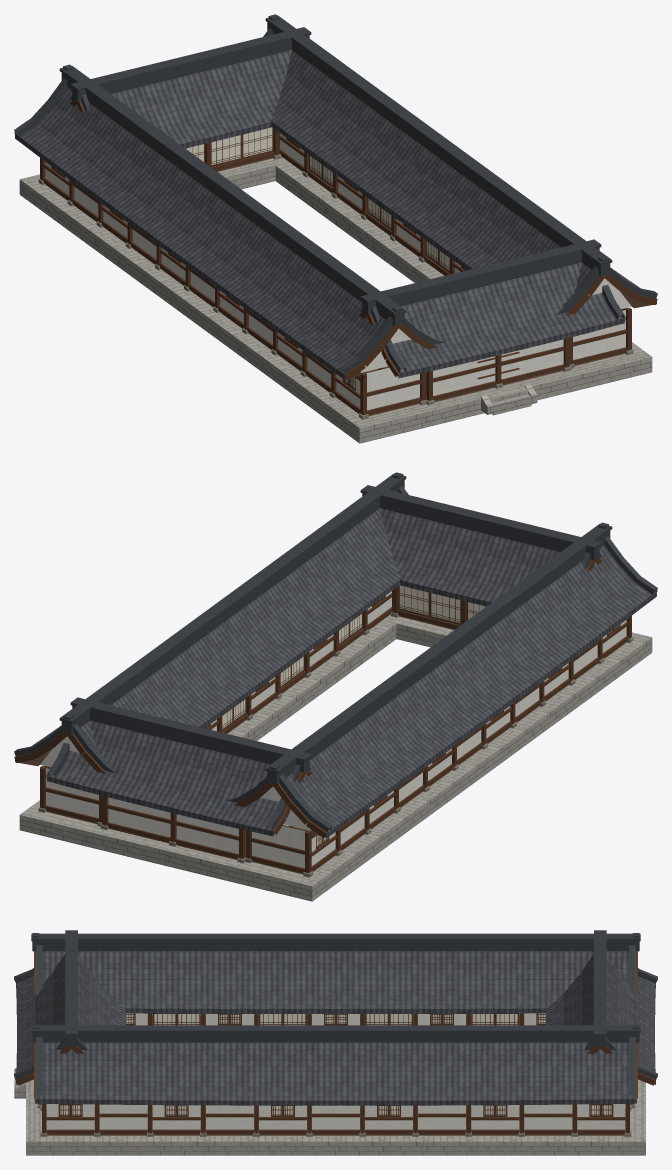
The picture shows the model from 3 angles, top to bottom: view 1: azimuth 30°, elevation 25°; view 2: azimuth 150°, elevation 25°; view 3: azimuth 270°, elevation 25°; orthographic projection. The views are drawn at different scales.
Parts seen in each view (by area): view 1: jinsasikdang; view 2: jinsasikdang; view 3: jinsasikdang.
Part boxes in pixels (<box>): jinsasikdang: <box>14,14,657,443</box>; jinsasikdang: <box>14,472,657,901</box>; jinsasikdang: <box>14,930,657,1155</box>.
Bounding box in the file's own units: 18.19 × 6.68 × 35.31.
Materials: 11 (9 with a texture image).
